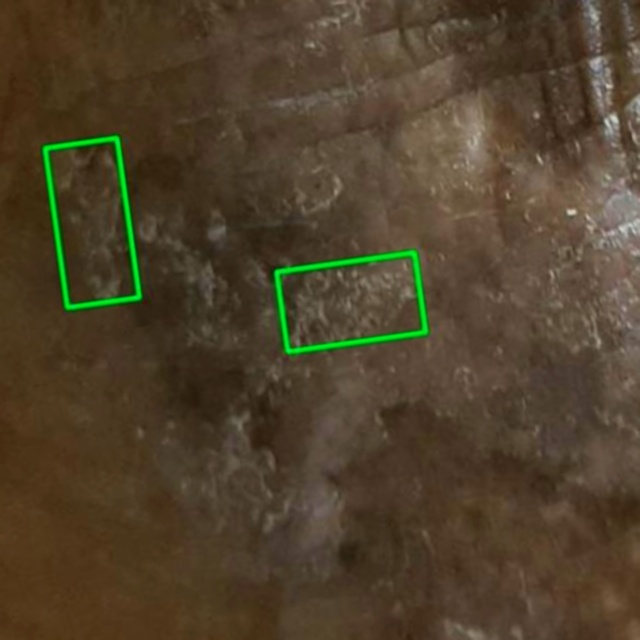Eczema: (45, 137, 139, 307), (276, 252, 425, 351)
